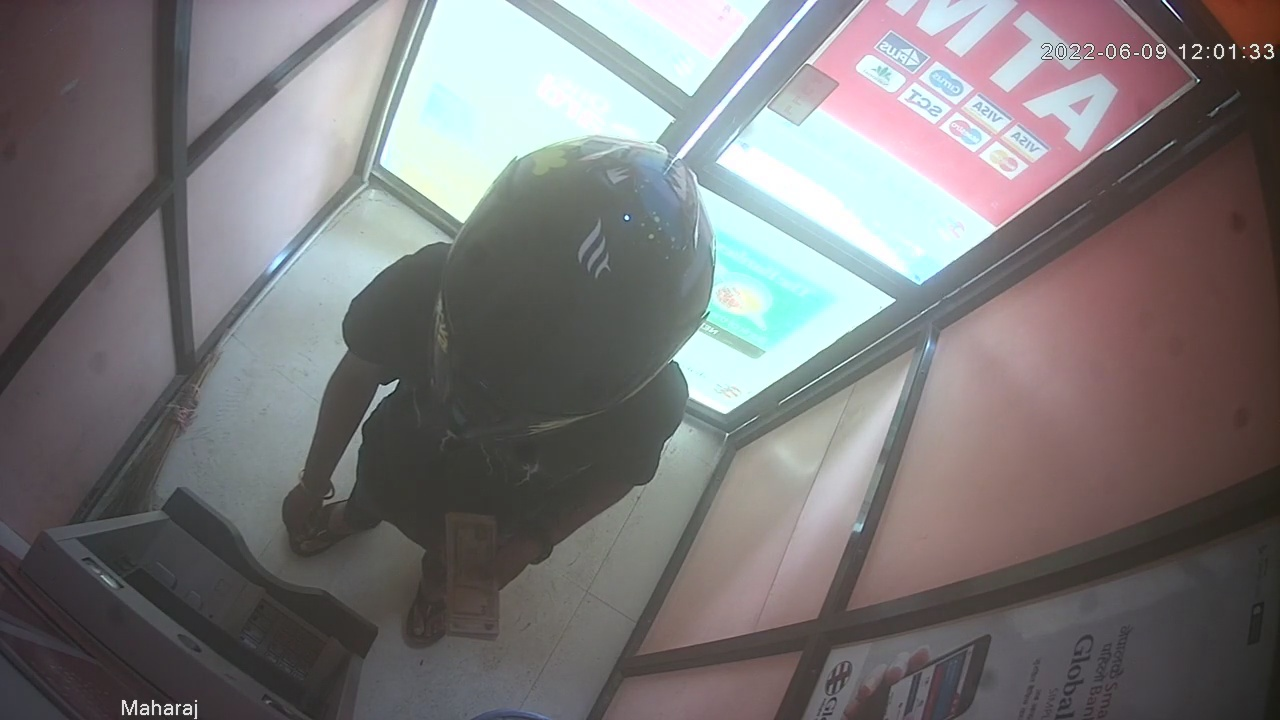helmet: (422, 136, 716, 445)
person: (281, 134, 717, 665)
